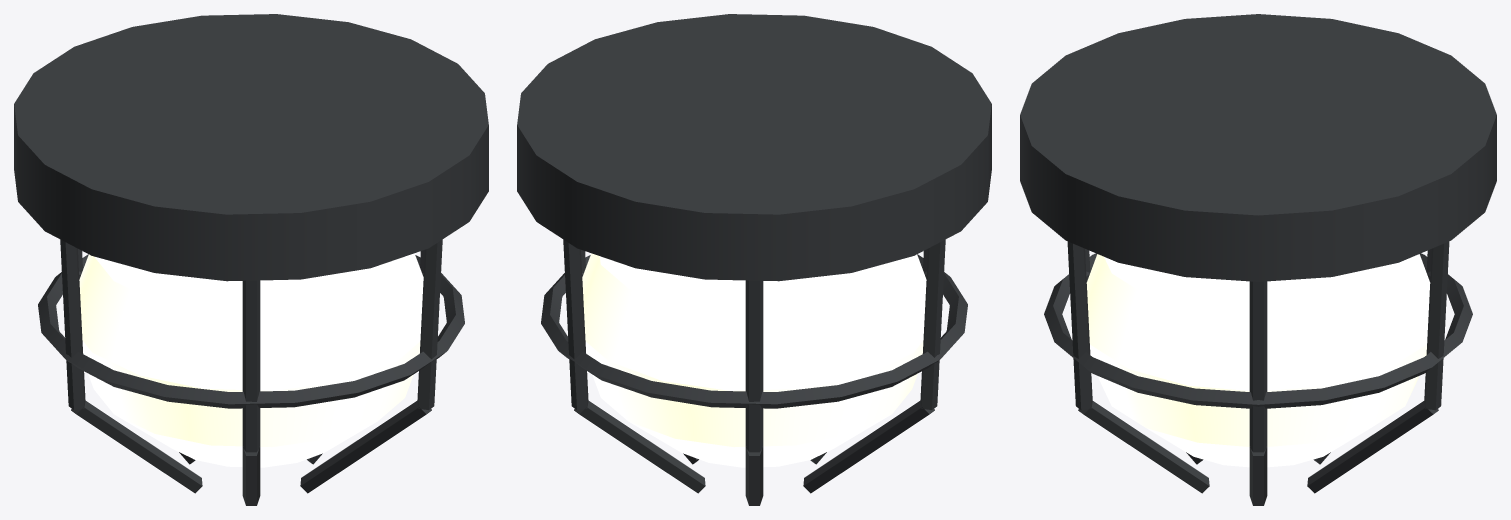
The model's file is prop_bulkhead_caged.glb.
The picture shows the model from 3 angles, left to right: view 1: azimuth 30°, elevation 25°; view 2: azimuth 150°, elevation 25°; view 3: azimuth 270°, elevation 25°; orthographic projection.
Visible parts, largest first — view 1: Fixture; view 2: Fixture; view 3: Fixture.
Part boxes in pixels (box(x1,y1,x2,y2)): Fixture: box(14, 14, 488, 505); Fixture: box(517, 14, 991, 505); Fixture: box(1020, 14, 1496, 505).
Bounding box in the file's own units: 0.26 × 0.2181 × 0.26.
